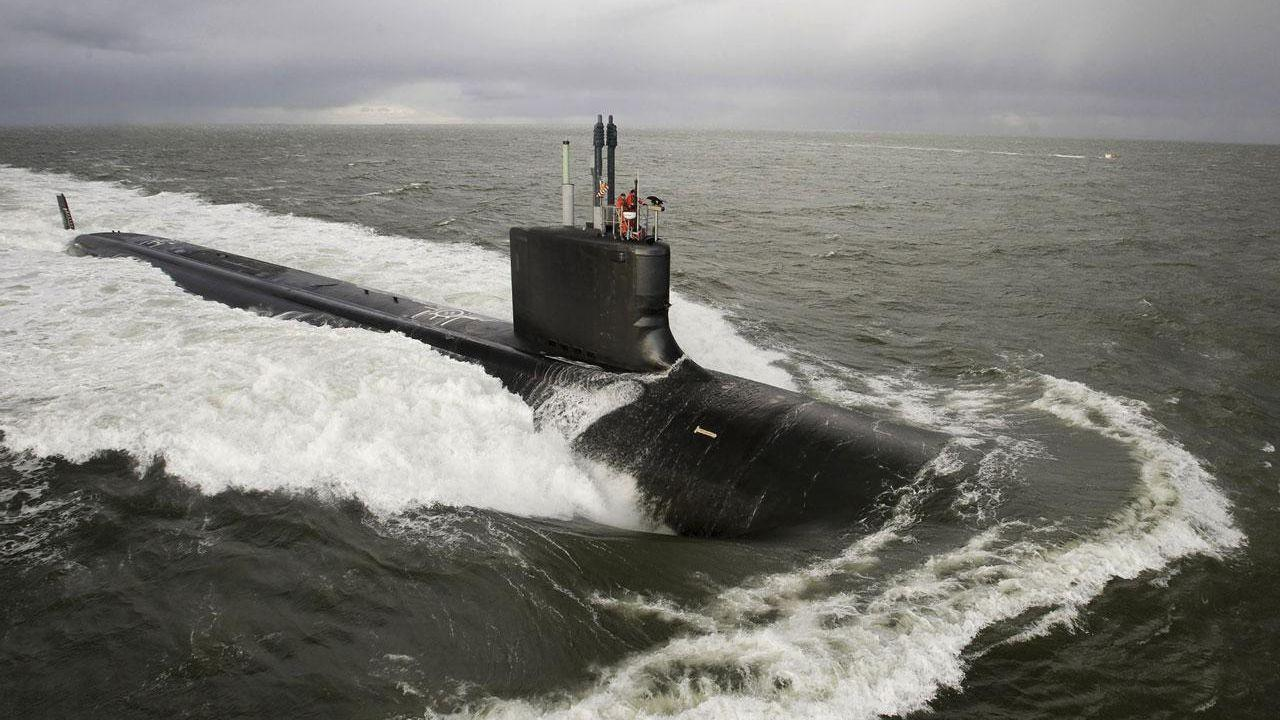Submarine: (2, 100, 1083, 605)
